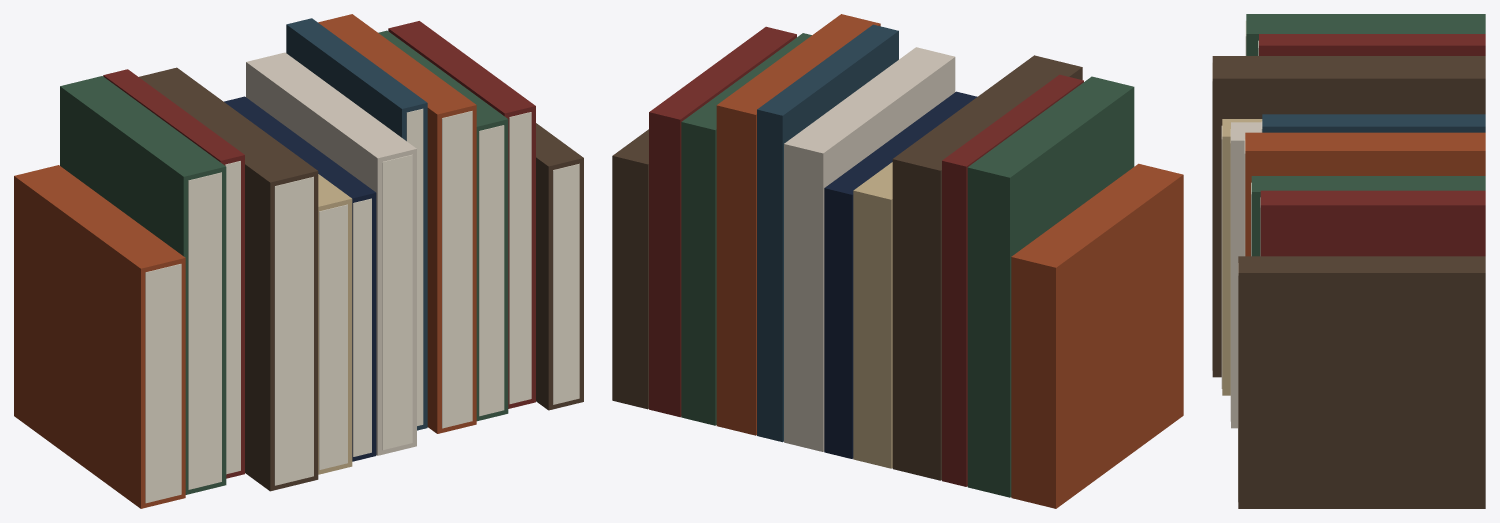
File: HIN-BKR-std.glb
3 views of the same model, side by side, from view 1: azimuth 30°, elevation 25°; view 2: azimuth 150°, elevation 25°; view 3: azimuth 270°, elevation 25° (orthographic). The views are drawn at different scales.
Visible parts, largest first — view 1: HIN-BKR-std; view 2: HIN-BKR-std; view 3: HIN-BKR-std.
Part boxes in pixels (left/top/right/bottom): HIN-BKR-std: left=14, top=14, right=583, bottom=508; HIN-BKR-std: left=612, top=14, right=1183, bottom=508; HIN-BKR-std: left=1212, top=14, right=1485, bottom=508.
Size of the model in its own units: 0.3925 by 0.276 by 0.2177.
